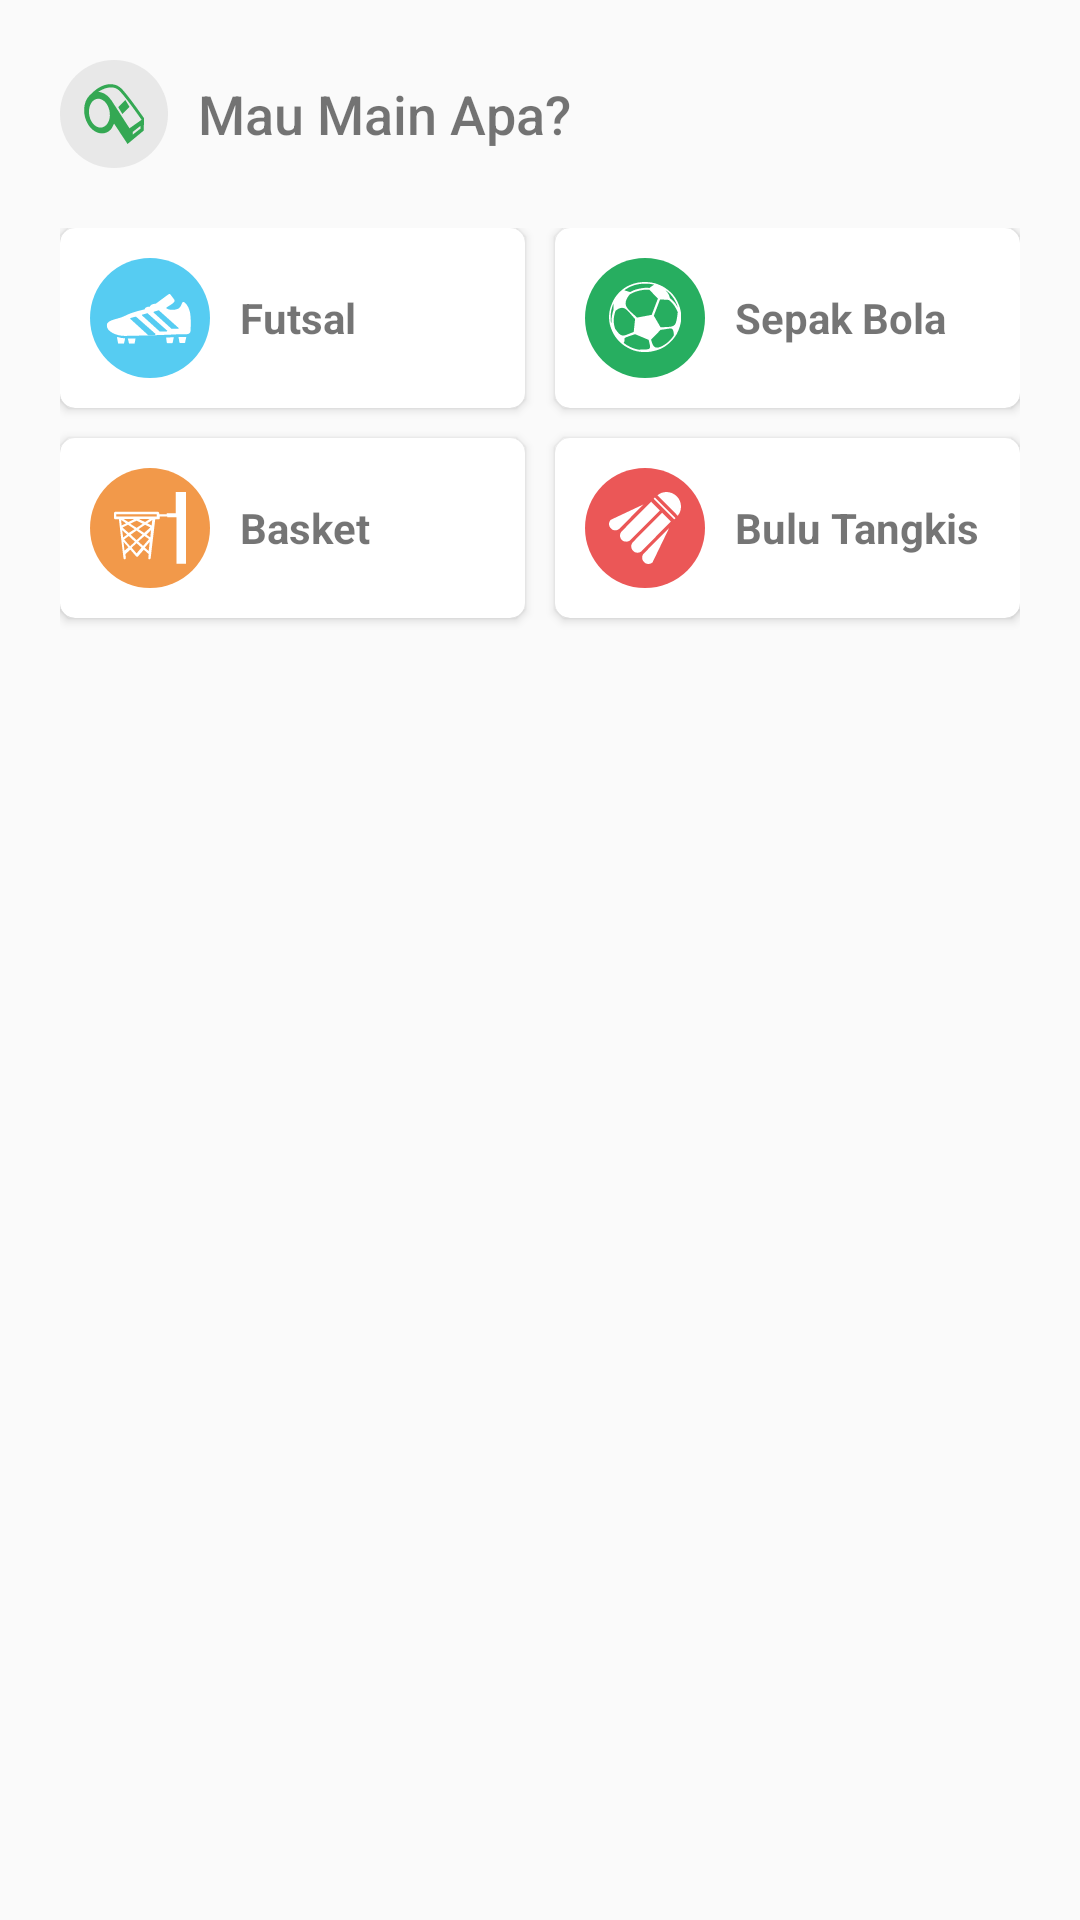

Locate icon controls on the screen. Image size 1080x1920, boxes as (x1, y1, x2, y2).
peluit: (60, 60, 168, 168)
